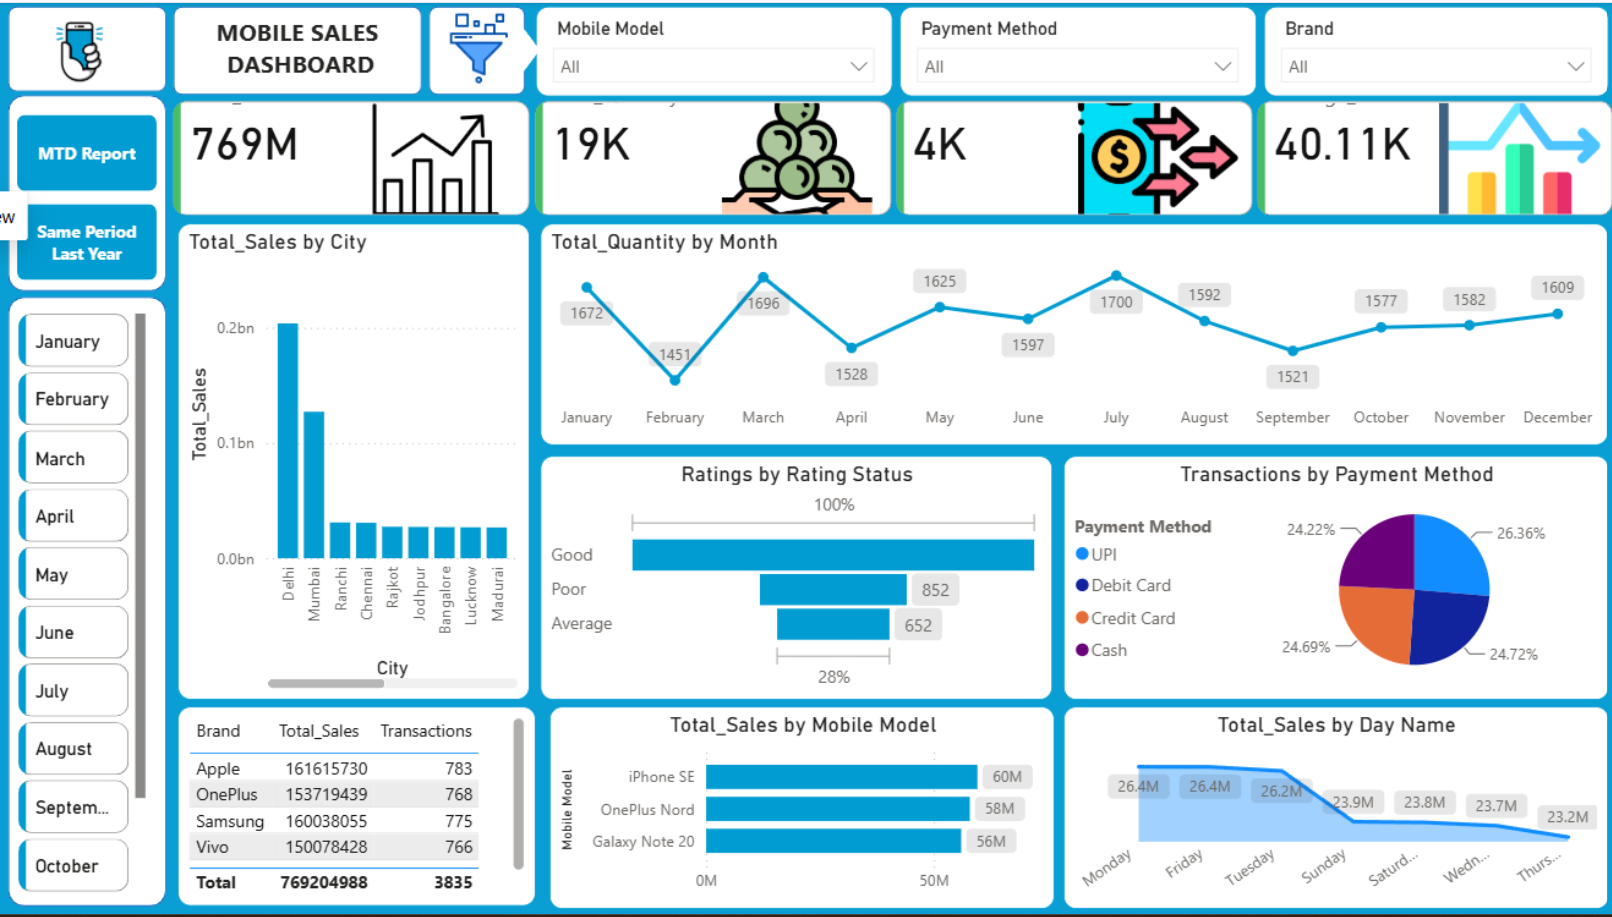

The dashboard page shown, as its layout file describes it:
{"tool":"powerbi","page":{"name":"Dashboard","canvas":[1280,720],"ordinal":0},"visuals":[{"type":"shape","box":[7.5,3.8,125,67.5],"z":0},{"type":"image","box":[23.8,3.8,78.8,71.2],"z":1000},{"type":"shape","box":[7.5,73.8,125,155],"z":2000},{"type":"shape","box":[7.5,232.5,125,481.2],"z":3000},{"type":"advancedSlicerVisual","fields":{"Values":["Custom_Calendar.Date.Variation.Date Hierarchy.Month"]},"box":[11.2,241.2,110,472.5],"z":4000},{"type":"cardVisual","fields":{"Data":["Sales_Data.Total_Sales","Sales_Data.Total_Quantity","Sales_Data.Transactions","Sales_Data.Average_Price"]},"box":[132.5,73.8,1147.5,100],"z":5000},{"type":"slicer","fields":{"Values":["Sales_Data.Mobile Model"]},"box":[423.8,3.8,281.2,71.2],"z":6000},{"type":"slicer","fields":{"Values":["Sales_Data.Payment Method"]},"box":[710,3.8,281.2,71.2],"z":7000},{"type":"slicer","fields":{"Values":["Sales_Data.Brand"]},"box":[997.5,3.8,272.5,71.2],"z":8000},{"type":"shape","box":[338.8,3.8,76.2,70],"z":9000},{"type":"image","box":[337.5,3.8,81.2,66.2],"z":10000},{"type":"shape","box":[397.5,17.5,30,40],"z":11000},{"type":"shape","box":[137.5,3.8,196.2,70],"z":12000},{"type":"textbox","box":[156.2,6.2,162.5,63.8],"z":13000},{"type":"columnChart","fields":{"Category":["Sales_Data.City"],"Y":["Sales_Data.Total_Sales"]},"box":[141.2,175,277.5,376.2],"z":14000},{"type":"lineChart","fields":{"Y":["Sales_Data.Total_Quantity"],"Category":["Custom_Calendar.Date.Variation.Date Hierarchy.Month"]},"box":[427.5,175,842.5,175],"z":15000},{"type":"funnel","title":"Ratings by Rating Status","fields":{"Y":["CountNonNull(Sales_Data.Customer Ratings)"],"Category":["Sales_Data.Rating Status"]},"box":[427.5,358.8,403.8,192.5],"z":16000},{"type":"pieChart","fields":{"Y":["Sales_Data.Transactions"],"Category":["Sales_Data.Payment Method"]},"box":[840,358.8,430,192.5],"z":17000},{"type":"clusteredBarChart","fields":{"Y":["Sales_Data.Total_Sales"],"Category":["Sales_Data.Mobile Model"]},"box":[433.8,556.2,398.8,160],"z":18000},{"type":"areaChart","fields":{"Y":["Sales_Data.Total_Sales"],"Category":["Custom_Calendar.Day Name"]},"box":[840,556.2,430,160],"z":19000},{"type":"tableEx","fields":{"Values":["Sales_Data.Brand","Sales_Data.Total_Sales","Sales_Data.Transactions"]},"box":[141.2,556.2,282.5,157.5],"z":20000},{"type":"pageNavigator","box":[15,88.8,110,130],"z":21000}]}

Visuals, with their boxes in screenshot pixels (x1, y1, x2, y2), scaled from the page's 1280x720 canvas onto the 1612x917 screenshot:
shape: (left=9, top=5, right=167, bottom=91)
image: (left=30, top=5, right=129, bottom=96)
shape: (left=9, top=94, right=167, bottom=291)
shape: (left=9, top=296, right=167, bottom=909)
advancedSlicerVisual - Custom_Calendar.Date.Variation.Date Hierarchy.Month: (left=14, top=307, right=153, bottom=909)
cardVisual - Sales_Data.Total_Sales x Sales_Data.Total_Quantity: (left=167, top=94, right=1611, bottom=221)
slicer - Sales_Data.Mobile Model: (left=534, top=5, right=888, bottom=96)
slicer - Sales_Data.Payment Method: (left=894, top=5, right=1248, bottom=96)
slicer - Sales_Data.Brand: (left=1256, top=5, right=1599, bottom=96)
shape: (left=427, top=5, right=523, bottom=94)
image: (left=425, top=5, right=527, bottom=89)
shape: (left=501, top=22, right=538, bottom=73)
shape: (left=173, top=5, right=420, bottom=94)
textbox: (left=197, top=8, right=401, bottom=89)
columnChart - Sales_Data.City x Sales_Data.Total_Sales: (left=178, top=223, right=527, bottom=702)
lineChart - Sales_Data.Total_Quantity x Custom_Calendar.Date.Variation.Date Hierarchy.Month: (left=538, top=223, right=1599, bottom=446)
"Ratings by Rating Status" funnel: (left=538, top=457, right=1047, bottom=702)
pieChart - Sales_Data.Transactions x Sales_Data.Payment Method: (left=1058, top=457, right=1599, bottom=702)
clusteredBarChart - Sales_Data.Total_Sales x Sales_Data.Mobile Model: (left=546, top=708, right=1049, bottom=912)
areaChart - Sales_Data.Total_Sales x Custom_Calendar.Day Name: (left=1058, top=708, right=1599, bottom=912)
tableEx - Sales_Data.Brand x Sales_Data.Total_Sales: (left=178, top=708, right=534, bottom=909)
pageNavigator: (left=19, top=113, right=157, bottom=279)
